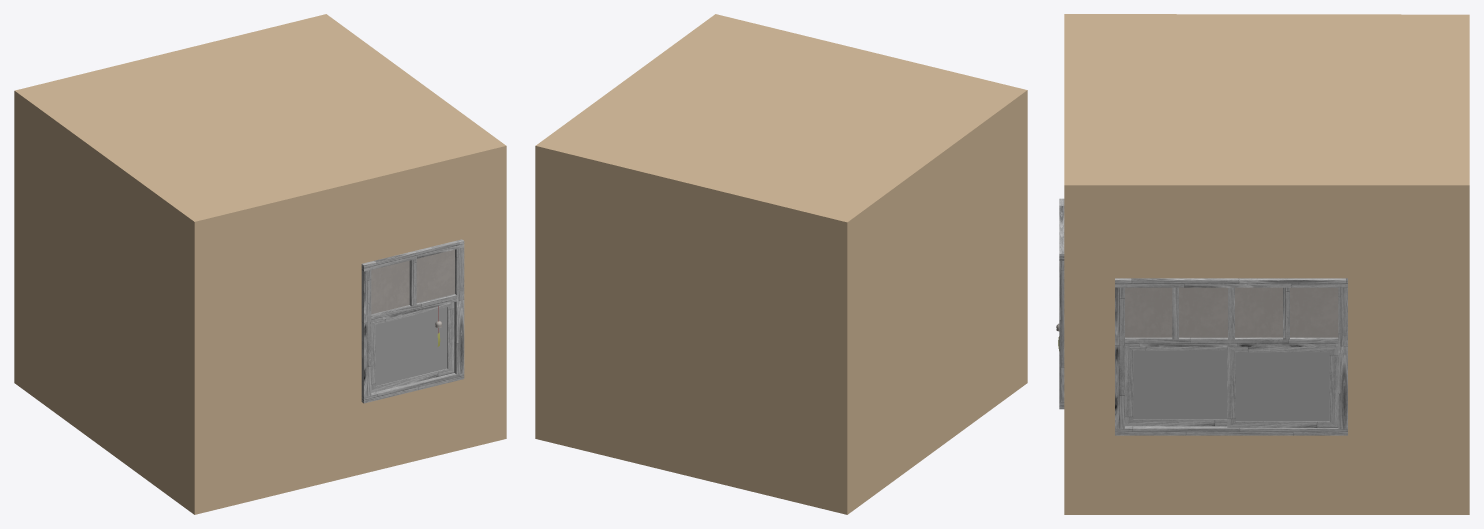
Rendered from Room4.fbx.
The picture shows the model from 3 angles, left to right: view 1: azimuth 30°, elevation 25°; view 2: azimuth 150°, elevation 25°; view 3: azimuth 270°, elevation 25°; orthographic projection. The views are drawn at different scales.
Visible parts, largest first — view 1: Wall_02, Window1, Glass; view 2: Wall_02; view 3: Wall_02, Window, Glass, Window1.
Part boxes in pixels (<box>): Wall_02: <box>14,14,506,514</box>; Window1: <box>361,239,464,403</box>; Glass: <box>375,307,447,385</box>; Wall_02: <box>535,14,1027,514</box>; Wall_02: <box>1064,14,1469,514</box>; Window: <box>1115,278,1347,435</box>; Glass: <box>1133,350,1329,421</box>; Window1: <box>1056,198,1064,409</box>.
Size of the model in its own units: 277 by 246 by 279.
